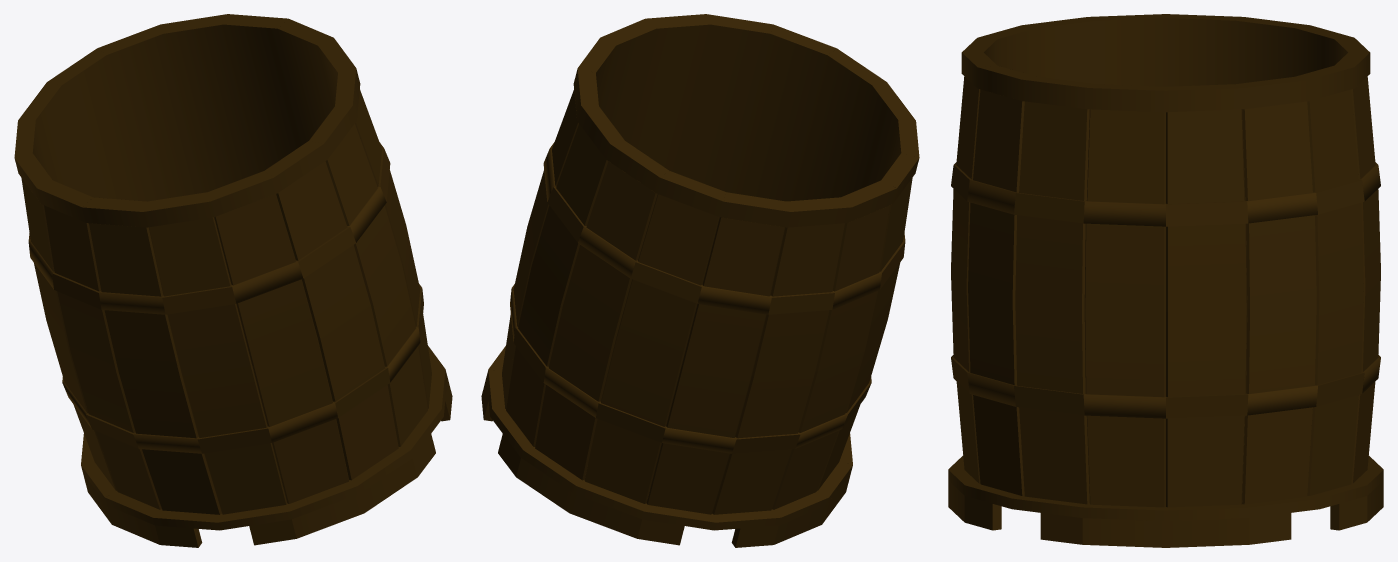
The model's file is 30139_barrel_4x4x4.glb.
3 renders of one model, left to right at view 1: azimuth 30°, elevation 25°; view 2: azimuth 150°, elevation 25°; view 3: azimuth 270°, elevation 25°, orthographic. The views are drawn at different scales.
Parts seen in each view (by area): view 1: 30139.dat; view 2: 30139.dat; view 3: 30139.dat.
Boxes of the visible parts, <box> form: 30139.dat: <box>14,14,452,547</box>; 30139.dat: <box>481,14,919,547</box>; 30139.dat: <box>948,14,1383,547</box>.
Bounding box in the file's own units: 2.12 × 2.24 × 1.77.
